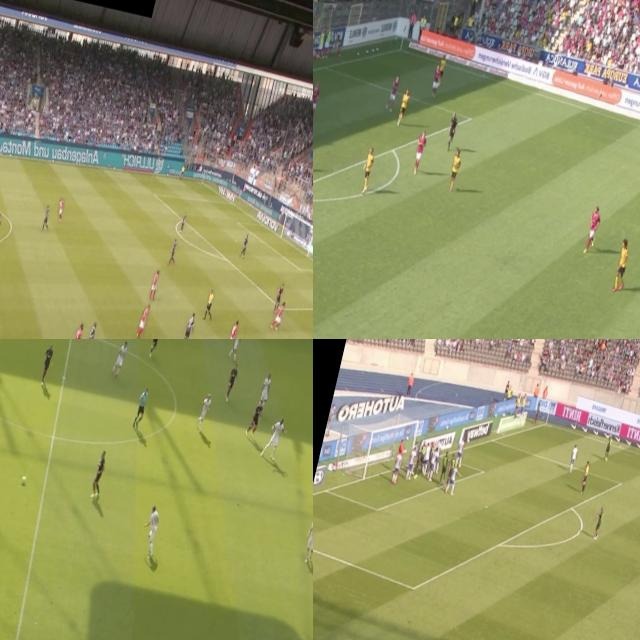ball: (17, 463, 31, 490)
player: (610, 236, 632, 296), (580, 200, 604, 255), (142, 499, 164, 559), (260, 414, 288, 461), (355, 144, 378, 199), (85, 447, 108, 502), (408, 124, 431, 178), (36, 340, 56, 390), (446, 146, 464, 193), (220, 362, 240, 404), (246, 398, 266, 438), (393, 86, 412, 126), (384, 72, 404, 110), (256, 368, 274, 408), (433, 48, 450, 90), (299, 514, 313, 564), (109, 339, 129, 374), (193, 394, 211, 431), (444, 463, 462, 495), (413, 439, 428, 477), (403, 446, 418, 482), (429, 59, 444, 94), (270, 300, 286, 332), (425, 446, 440, 480), (393, 436, 408, 470), (136, 305, 150, 339), (591, 506, 605, 540), (566, 442, 580, 474), (444, 452, 457, 486), (419, 440, 432, 474), (390, 449, 403, 483), (431, 438, 443, 474), (145, 339, 164, 361), (80, 318, 99, 339), (227, 339, 244, 362), (272, 282, 285, 312), (179, 314, 194, 339), (148, 268, 160, 298), (223, 317, 239, 339), (407, 440, 418, 472), (454, 438, 466, 467), (313, 81, 322, 118), (602, 434, 612, 462), (68, 322, 84, 339), (168, 238, 178, 264), (41, 202, 51, 228), (240, 233, 250, 255), (532, 400, 541, 423), (54, 197, 62, 221), (180, 213, 187, 232)
